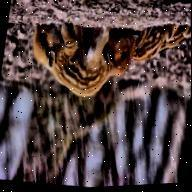boar: (21, 0, 122, 104)
